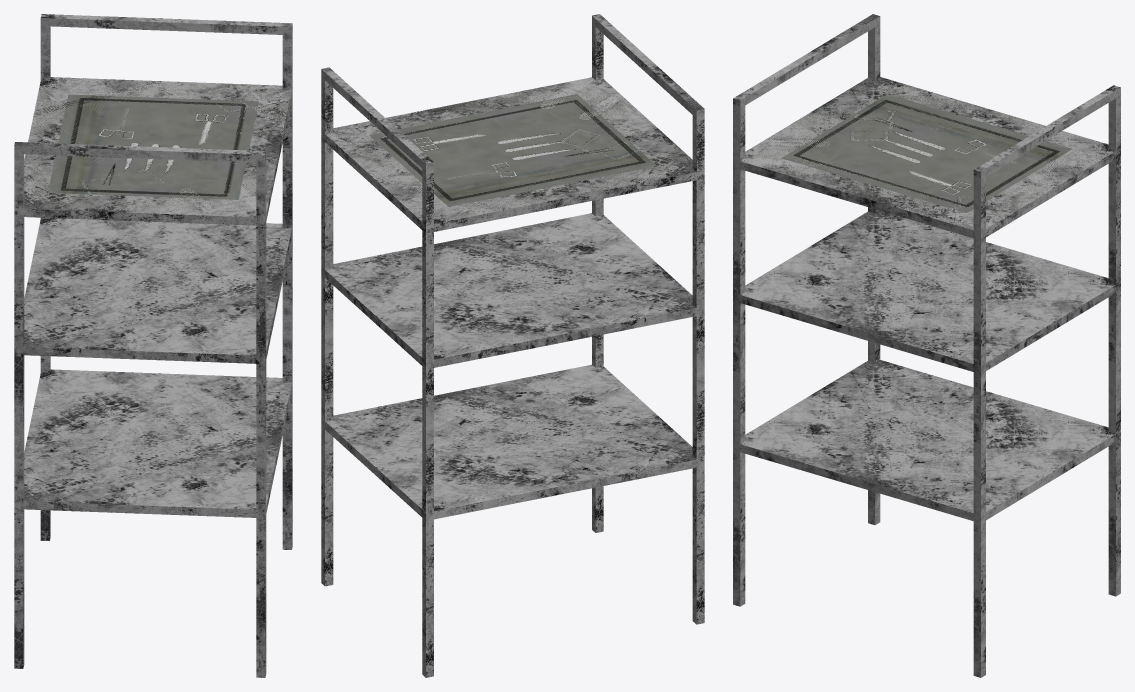
The model's file is CarrinhoDeFerramentasHospitalares.dae.
3 views of the same model, side by side, from view 1: azimuth 30°, elevation 25°; view 2: azimuth 150°, elevation 25°; view 3: azimuth 270°, elevation 25° (orthographic). The views are drawn at different scales.
Visible parts, largest first — view 1: instance_0 (×3); view 2: instance_0 (×3); view 3: instance_0 (×3).
Boxes of the visible parts, x1,y1,x2,y2 form: instance_0 (×3): [14, 14, 292, 677]; instance_0 (×3): [321, 14, 704, 677]; instance_0 (×3): [733, 14, 1120, 677].
Bounding box in the file's own units: 25.01 × 25.98 × 37.4.
